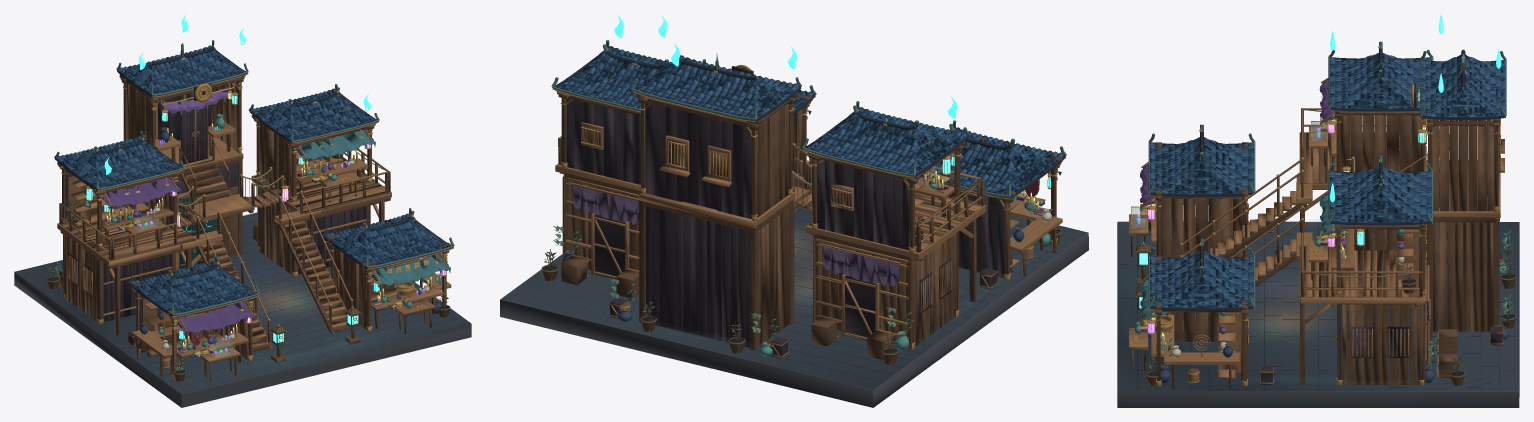
File: ghost-lod1-f119943c37d9.glb
The picture shows the model from 3 angles, left to right: view 1: azimuth 30°, elevation 25°; view 2: azimuth 150°, elevation 25°; view 3: azimuth 270°, elevation 25°; orthographic projection. The views are drawn at different scales.
Parts seen in each view (by area): view 1: SM_GS5_MAT_GS5_DarkTimber_GS5_GroundDoorHinge_1.004, SM_GS5_MAT_GS5_WoodTrim_GS5_MainDoorHinge_1.004, SM_GS5_MAT_GS5_PavingWithBakedLanternPools.004, SM_GS5_MAT_GS5_InsetTimber_GS5_MainDoorHinge_1.004, SM_GS5_MAT_GS5_DarkFoundation.004, SM_GS5_MAT_GS5_SourceGlazedBlueTile2, SM_GS5_MAT_GS5_SourceGlazedBlueTile3, SM_GS5_MAT_GS5_SourceGlazedBlueTile1, SM_GS5_MAT_GS5_SourceGlazedBlueTile0, SM_GS5_MAT_GS5_AgedBronze_GS5_GroundDoorHinge_1.004, SM_GS5_MAT_GS5_PurpleCloth.004, SM_GS5_MAT_GS5_TealCloth.004 (+13 smaller); view 2: SM_GS5_MAT_GS5_InsetTimber_GS5_MainDoorHinge_1.004, SM_GS5_MAT_GS5_DarkTimber_GS5_GroundDoorHinge_1.004, SM_GS5_MAT_GS5_PavingWithBakedLanternPools.004, SM_GS5_MAT_GS5_WoodTrim_GS5_MainDoorHinge_1.004, SM_GS5_MAT_GS5_DarkFoundation.004, SM_GS5_MAT_GS5_SourceGlazedBlueTile3, SM_GS5_MAT_GS5_SourceGlazedBlueTile2, SM_GS5_MAT_GS5_SourceGlazedBlueTile1, SM_GS5_MAT_GS5_SourceGlazedBlueTile0, SM_GS5_MAT_GS5_BackTornPurpleCloth.002, SM_GS5_MAT_GS5_AgedBronze_GS5_GroundDoorHinge_1.004, SM_GS5_MAT_GS5_AgedJadeRoofEdge.004 (+5 smaller); view 3: SM_GS5_MAT_GS5_DarkTimber_GS5_GroundDoorHinge_1.004, SM_GS5_MAT_GS5_PavingWithBakedLanternPools.004, SM_GS5_MAT_GS5_WoodTrim_GS5_MainDoorHinge_1.004, SM_GS5_MAT_GS5_SourceGlazedBlueTile0, SM_GS5_MAT_GS5_SourceGlazedBlueTile3, SM_GS5_MAT_GS5_SourceGlazedBlueTile1, SM_GS5_MAT_GS5_SourceGlazedBlueTile2, SM_GS5_MAT_GS5_DarkFoundation.004, SM_GS5_MAT_GS5_AgedBronze_GS5_GroundDoorHinge_1.004, SM_GS5_MAT_GS5_InsetTimber_GS5_MainDoorHinge_1.004, SM_GS5_MAT_GS5_AgedJadeRoofEdge.004, SM_GS5_MAT_GS5_BlueBlackTile.004 (+9 smaller).
Boxes of the visible parts, <box> form: SM_GS5_MAT_GS5_DarkTimber_GS5_GroundDoorHinge_1.004: <box>46,50,451,381</box>; SM_GS5_MAT_GS5_WoodTrim_GS5_MainDoorHinge_1.004: <box>57,76,451,368</box>; SM_GS5_MAT_GS5_PavingWithBakedLanternPools.004: <box>15,212,470,393</box>; SM_GS5_MAT_GS5_InsetTimber_GS5_MainDoorHinge_1.004: <box>65,83,365,352</box>; SM_GS5_MAT_GS5_DarkFoundation.004: <box>14,263,471,407</box>; SM_GS5_MAT_GS5_SourceGlazedBlueTile2: <box>58,48,445,313</box>; SM_GS5_MAT_GS5_SourceGlazedBlueTile3: <box>61,47,447,312</box>; SM_GS5_MAT_GS5_SourceGlazedBlueTile1: <box>57,49,449,313</box>; SM_GS5_MAT_GS5_SourceGlazedBlueTile0: <box>64,45,451,311</box>; SM_GS5_MAT_GS5_AgedBronze_GS5_GroundDoorHinge_1.004: <box>55,71,453,379</box>; SM_GS5_MAT_GS5_PurpleCloth.004: <box>102,138,381,352</box>; SM_GS5_MAT_GS5_TealCloth.004: <box>296,130,450,288</box>; SM_GS5_MAT_GS5_InsetTimber_GS5_MainDoorHinge_1.004: <box>566,66,1004,358</box>; SM_GS5_MAT_GS5_DarkTimber_GS5_GroundDoorHinge_1.004: <box>541,61,1062,364</box>; SM_GS5_MAT_GS5_PavingWithBakedLanternPools.004: <box>501,206,1087,389</box>; SM_GS5_MAT_GS5_WoodTrim_GS5_MainDoorHinge_1.004: <box>555,91,1062,358</box>; SM_GS5_MAT_GS5_DarkFoundation.004: <box>500,233,1088,407</box>; SM_GS5_MAT_GS5_SourceGlazedBlueTile3: <box>560,48,1057,193</box>; SM_GS5_MAT_GS5_SourceGlazedBlueTile2: <box>561,49,1060,194</box>; SM_GS5_MAT_GS5_SourceGlazedBlueTile1: <box>557,49,1063,194</box>; SM_GS5_MAT_GS5_SourceGlazedBlueTile0: <box>555,46,1053,192</box>; SM_GS5_MAT_GS5_BackTornPurpleCloth.002: <box>572,185,898,286</box>; SM_GS5_MAT_GS5_AgedBronze_GS5_GroundDoorHinge_1.004: <box>552,48,1065,349</box>; SM_GS5_MAT_GS5_AgedJadeRoofEdge.004: <box>551,40,1066,197</box>; SM_GS5_MAT_GS5_DarkTimber_GS5_GroundDoorHinge_1.004: <box>1131,63,1516,389</box>; SM_GS5_MAT_GS5_PavingWithBakedLanternPools.004: <box>1118,221,1518,391</box>; SM_GS5_MAT_GS5_WoodTrim_GS5_MainDoorHinge_1.004: <box>1129,78,1504,383</box>; SM_GS5_MAT_GS5_SourceGlazedBlueTile0: <box>1150,53,1505,307</box>; SM_GS5_MAT_GS5_SourceGlazedBlueTile3: <box>1150,54,1505,308</box>; SM_GS5_MAT_GS5_SourceGlazedBlueTile1: <box>1150,55,1505,307</box>; SM_GS5_MAT_GS5_SourceGlazedBlueTile2: <box>1150,55,1505,308</box>; SM_GS5_MAT_GS5_DarkFoundation.004: <box>1117,222,1519,407</box>; SM_GS5_MAT_GS5_AgedBronze_GS5_GroundDoorHinge_1.004: <box>1131,45,1506,386</box>; SM_GS5_MAT_GS5_InsetTimber_GS5_MainDoorHinge_1.004: <box>1242,82,1502,384</box>; SM_GS5_MAT_GS5_AgedJadeRoofEdge.004: <box>1148,41,1506,307</box>; SM_GS5_MAT_GS5_BlueBlackTile.004: <box>1150,57,1505,310</box>.
Bounding box in the file's own units: 10 × 7.83 × 10.
Materials: 57 (9 with a texture image).
